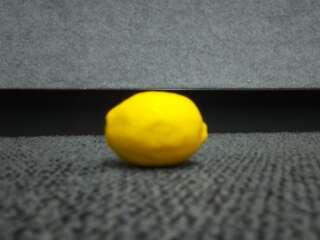lemon: (106, 91, 209, 170)
